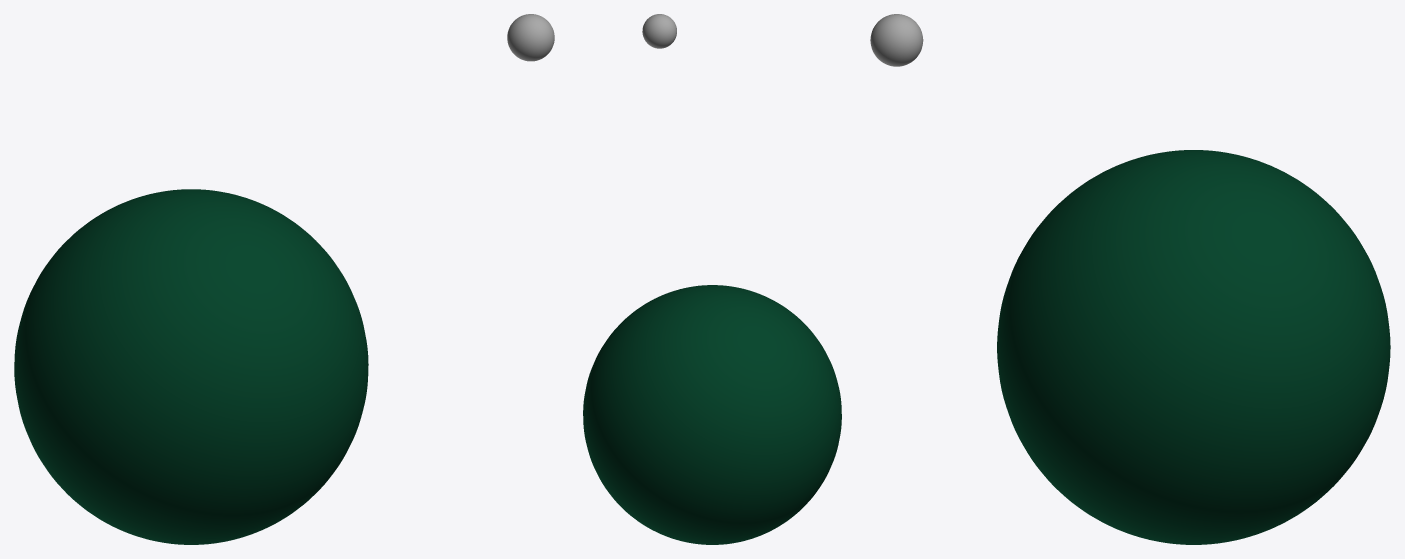
3 renders of one model, left to right at view 1: azimuth 30°, elevation 25°; view 2: azimuth 150°, elevation 25°; view 3: azimuth 270°, elevation 25°, orthographic. The views are drawn at different scales.
Parts seen in each view (by area): view 1: sphere, light; view 2: sphere, light; view 3: sphere, light.
Boxes of the visible parts, left/top/right/bottom form: sphere: left=14, top=189, right=368, bottom=544; light: left=507, top=14, right=554, bottom=61; sphere: left=583, top=285, right=841, bottom=544; light: left=642, top=14, right=676, bottom=48; sphere: left=997, top=150, right=1390, bottom=544; light: left=870, top=14, right=923, bottom=66.
Size of what is drawn, in the model's own units: 3.69 by 5.2 by 3.94.
